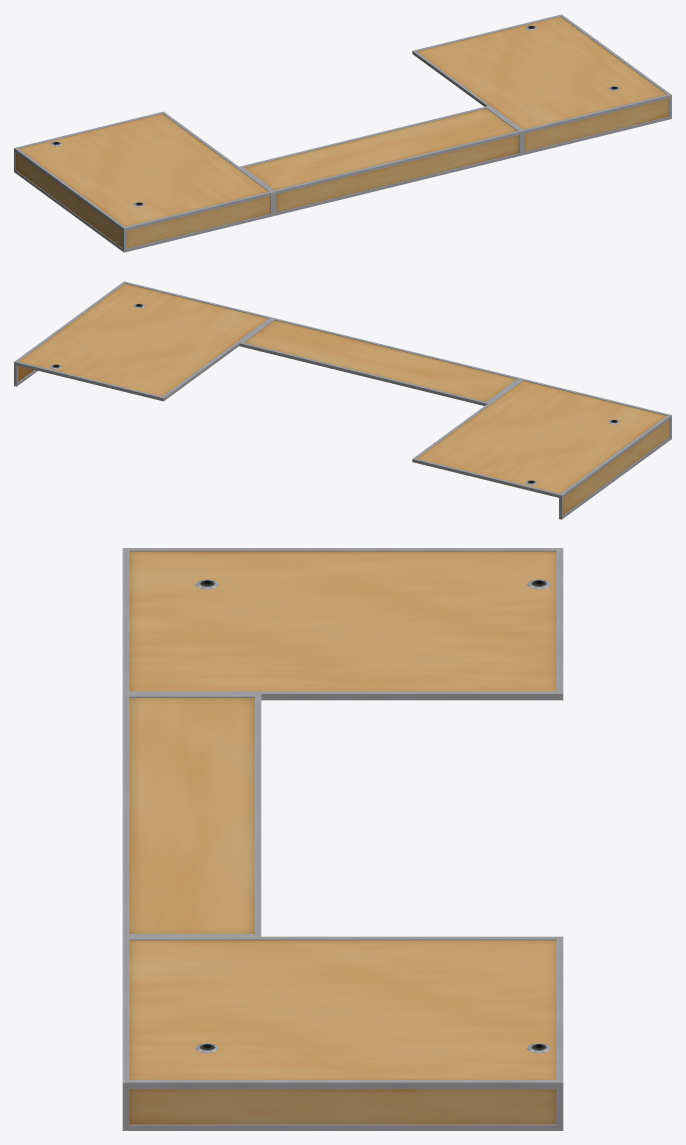
File: jsf_4P_s03_c05_t03_DX.fbx
3 renders of one model, top to bottom at view 1: azimuth 30°, elevation 25°; view 2: azimuth 150°, elevation 25°; view 3: azimuth 270°, elevation 25°, orthographic. The views are drawn at different scales.
Parts seen in each view (by area): view 1: jsf_4P_s03_c05_t03_DX; view 2: jsf_4P_s03_c05_t03_DX; view 3: jsf_4P_s03_c05_t03_DX.
Boxes of the visible parts, x1,y1,x2,y2 form: jsf_4P_s03_c05_t03_DX: (14, 14, 671, 252); jsf_4P_s03_c05_t03_DX: (14, 281, 671, 519); jsf_4P_s03_c05_t03_DX: (122, 548, 563, 1130).
Size of the model in its own units: 298 by 12.99 by 104.
